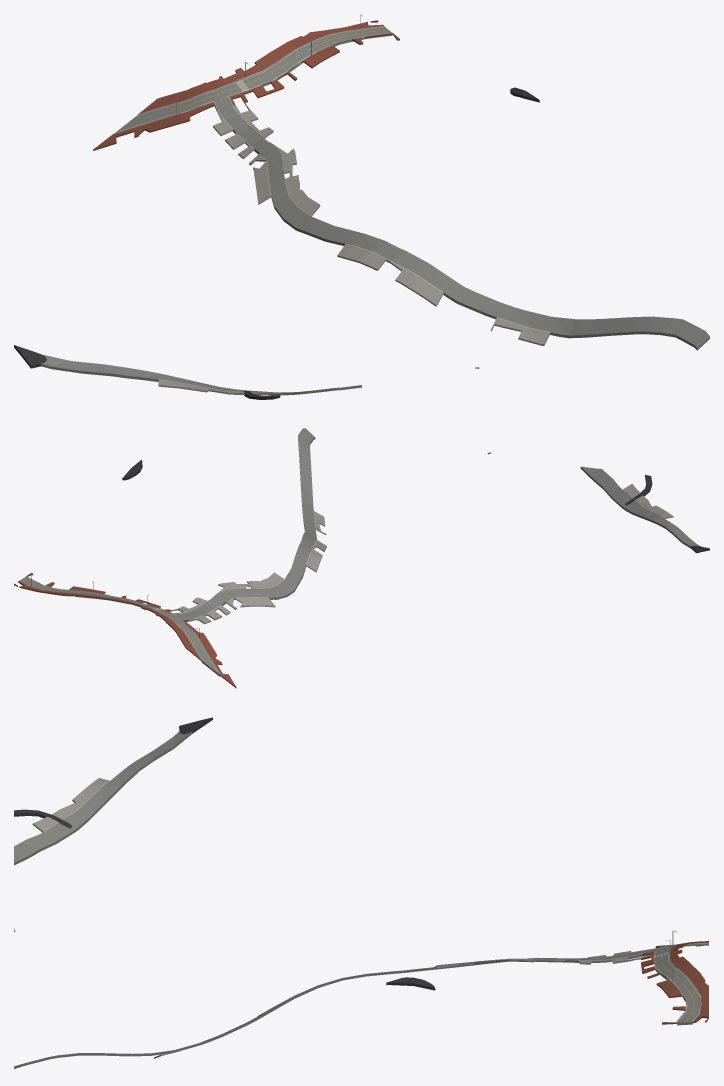
3 renders of one model, top to bottom at view 1: azimuth 30°, elevation 25°; view 2: azimuth 150°, elevation 25°; view 3: azimuth 270°, elevation 25°, orthographic. The views are drawn at different scales.
Size of the model in its own units: 293 by 60.86 by 292.
